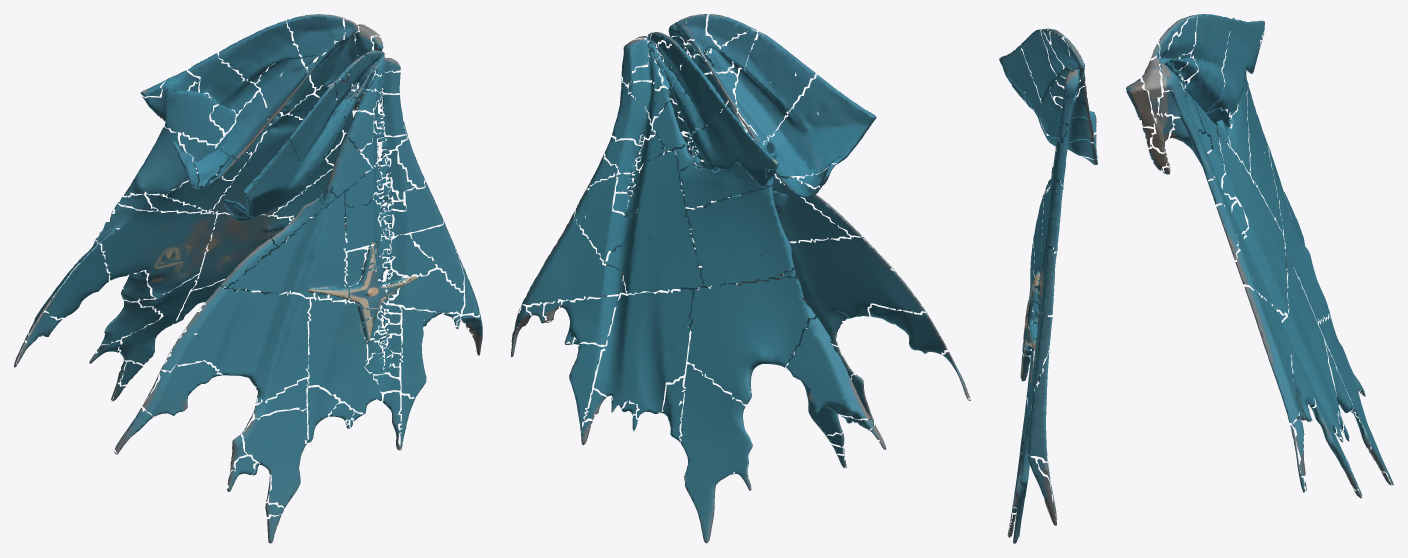
The model's file is rodin-teal-cape-skinned.glb.
The picture shows the model from 3 angles, left to right: view 1: azimuth 30°, elevation 25°; view 2: azimuth 150°, elevation 25°; view 3: azimuth 270°, elevation 25°; orthographic projection. The views are drawn at different scales.
Visible parts, largest first — view 1: TealCape; view 2: TealCape; view 3: TealCape.
Boxes of the visible parts, x1=… form: TealCape: x1=14, y1=14, x2=482, y2=543; TealCape: x1=511, y1=14, x2=970, y2=543; TealCape: x1=999, y1=14, x2=1393, y2=543.
Size of the model in its own units: 0.6565 by 0.758 by 0.463.
Materials: 1 (1 with a texture image).
